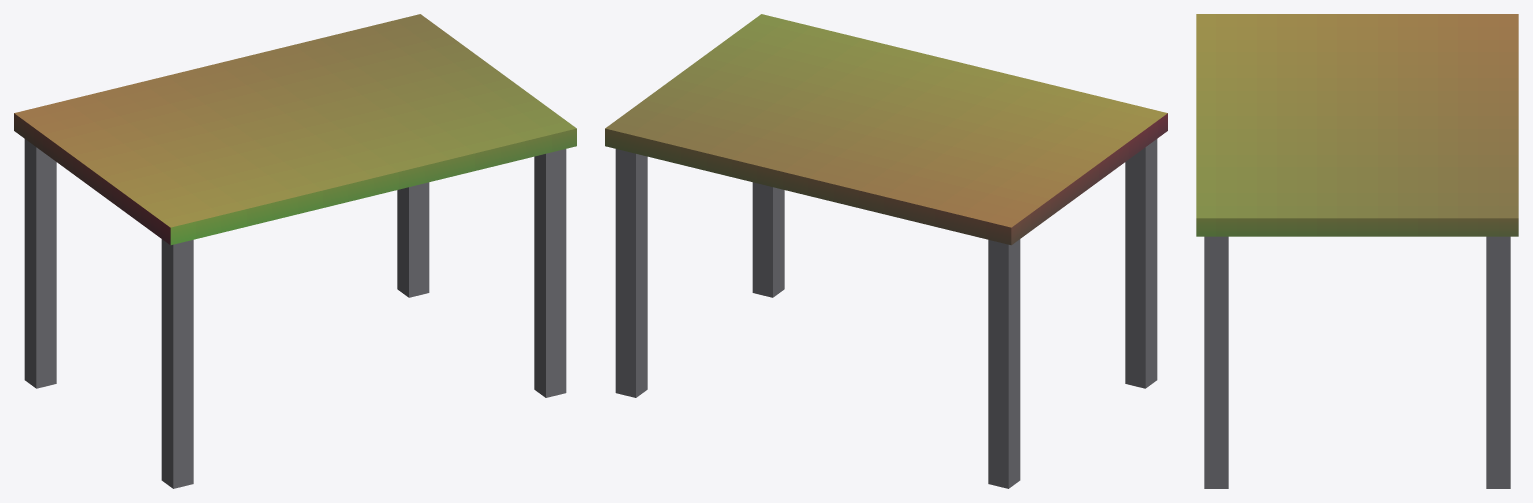
File: lf_fx_multigeo.gltf
3 renders of one model, left to right at view 1: azimuth 30°, elevation 25°; view 2: azimuth 150°, elevation 25°; view 3: azimuth 270°, elevation 25°, orthographic. The views are drawn at different scales.
Visible parts, largest first — view 1: lf_fx_multigeo_top, lf_fx_multigeo_leg0, lf_fx_multigeo_leg1, lf_fx_multigeo_leg2, lf_fx_multigeo_leg3; view 2: lf_fx_multigeo_top, lf_fx_multigeo_leg2, lf_fx_multigeo_leg3, lf_fx_multigeo_leg0, lf_fx_multigeo_leg1; view 3: lf_fx_multigeo_top, lf_fx_multigeo_leg1, lf_fx_multigeo_leg3.
Part boxes in pixels (box(x1,y1,x2,y2)): lf_fx_multigeo_top: box(14, 14, 576, 245); lf_fx_multigeo_leg0: box(161, 239, 193, 488); lf_fx_multigeo_leg1: box(534, 149, 566, 397); lf_fx_multigeo_leg2: box(24, 139, 56, 388); lf_fx_multigeo_leg3: box(397, 182, 429, 297); lf_fx_multigeo_top: box(605, 14, 1167, 245); lf_fx_multigeo_leg2: box(988, 239, 1020, 488); lf_fx_multigeo_leg3: box(615, 149, 647, 397); lf_fx_multigeo_leg0: box(1125, 139, 1157, 388); lf_fx_multigeo_leg1: box(752, 182, 784, 297); lf_fx_multigeo_top: box(1196, 14, 1518, 236); lf_fx_multigeo_leg1: box(1204, 236, 1228, 488); lf_fx_multigeo_leg3: box(1486, 236, 1510, 488).
Size of the model in its own units: 1.2 by 0.75 by 0.8.
Materials: 2 (1 with a texture image).
